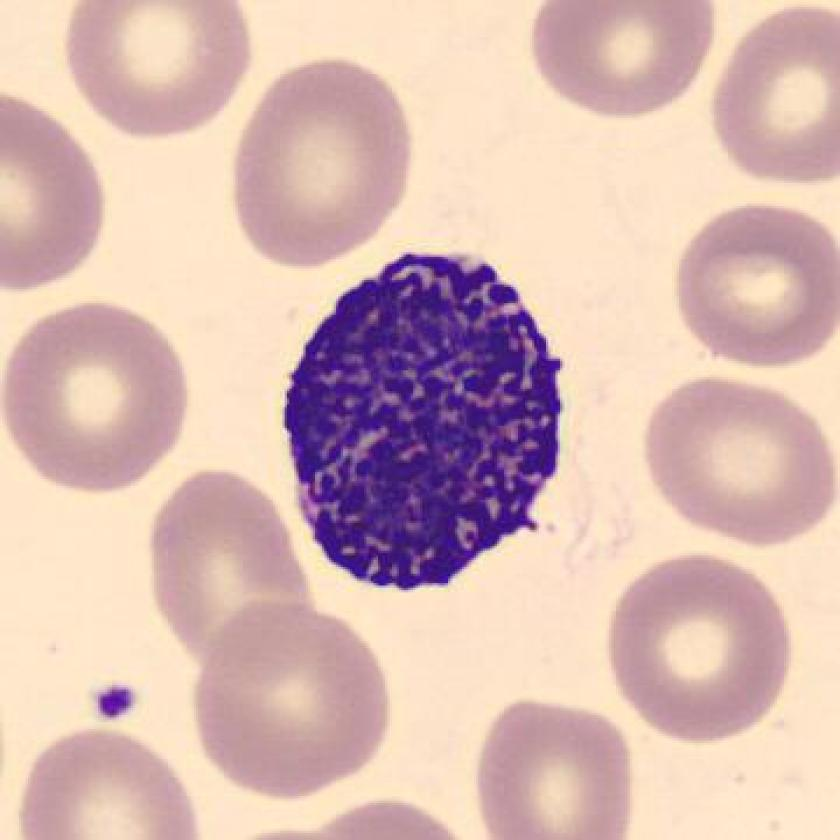basophil: (272, 232, 580, 605)
